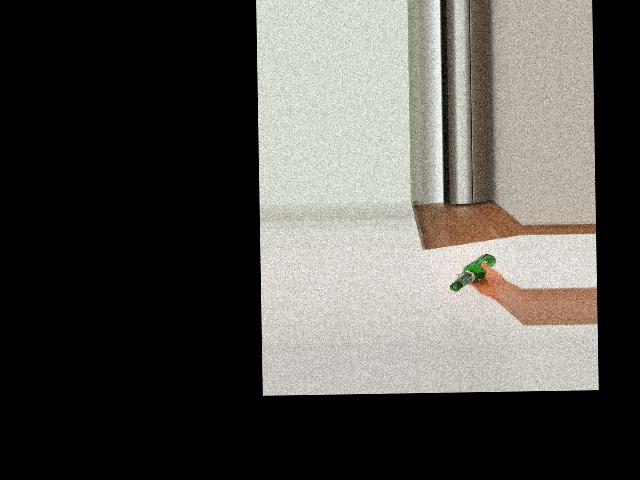beer: (449, 254, 496, 292)
